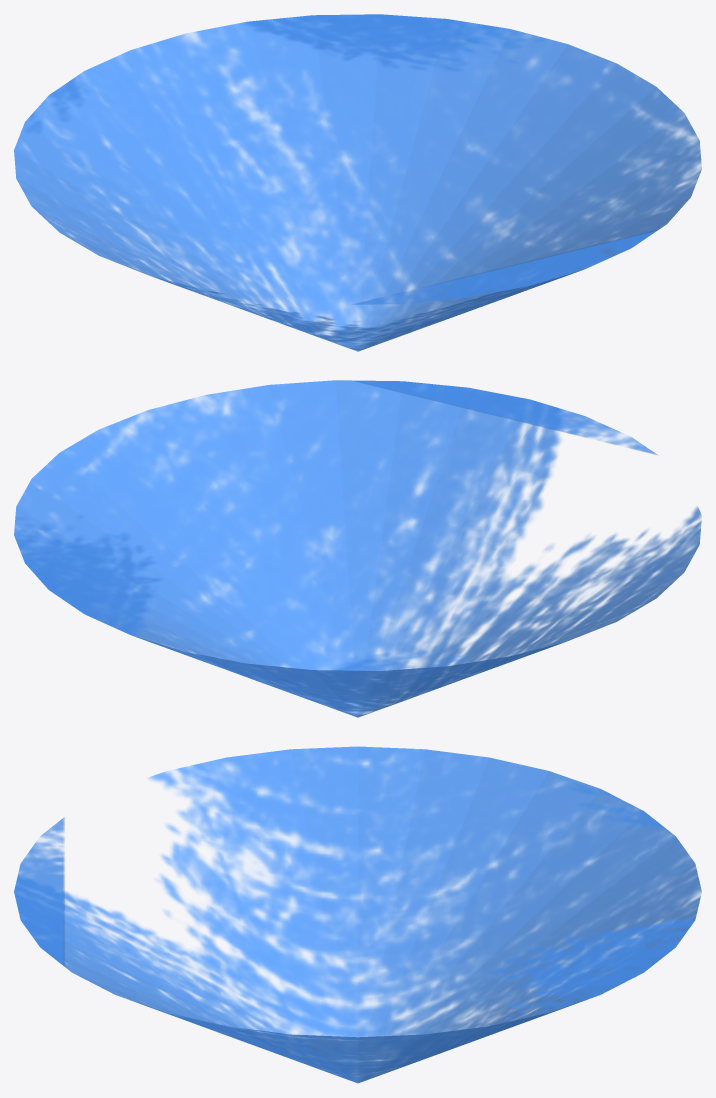
File: transport-thing.gltf
3 renders of one model, top to bottom at view 1: azimuth 30°, elevation 25°; view 2: azimuth 150°, elevation 25°; view 3: azimuth 270°, elevation 25°, orthographic.
Visible parts, largest first — view 1: Cone; view 2: Cone; view 3: Cone.
Part boxes in pixels (x1=…): Cone: x1=14, y1=14, x2=701, y2=351; Cone: x1=14, y1=380, x2=701, y2=717; Cone: x1=14, y1=746, x2=701, y2=1083.
Bounding box in the file's own units: 4.39 × 1.35 × 4.39.
Materials: 1 (1 with a texture image).
